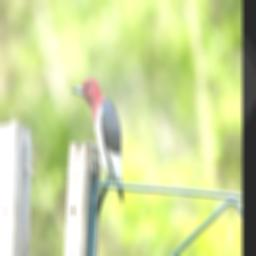Woodpecker: (66, 75, 130, 203)
